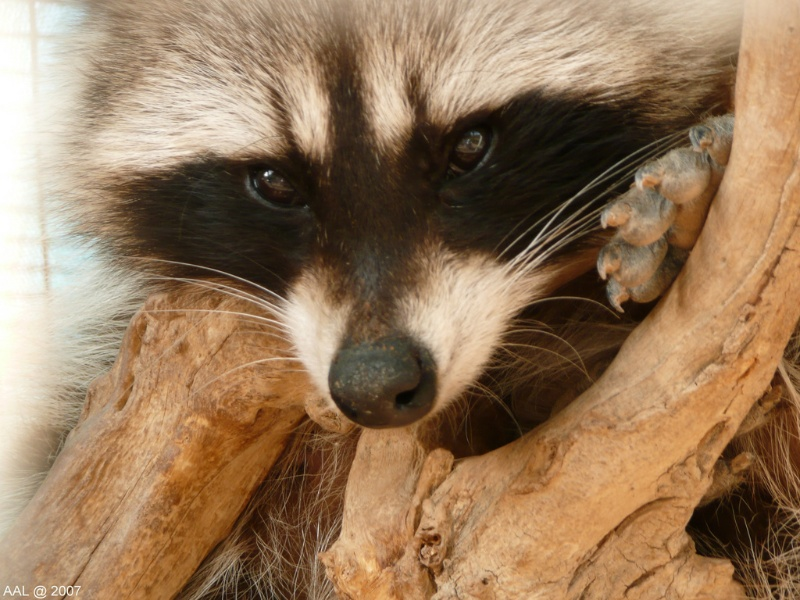raccoon: (40, 4, 724, 474)
